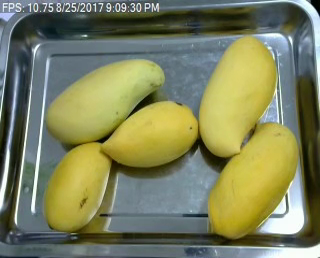Mango: (45, 58, 166, 148), (209, 121, 300, 238), (199, 34, 281, 157), (43, 140, 116, 231), (102, 101, 198, 168)
